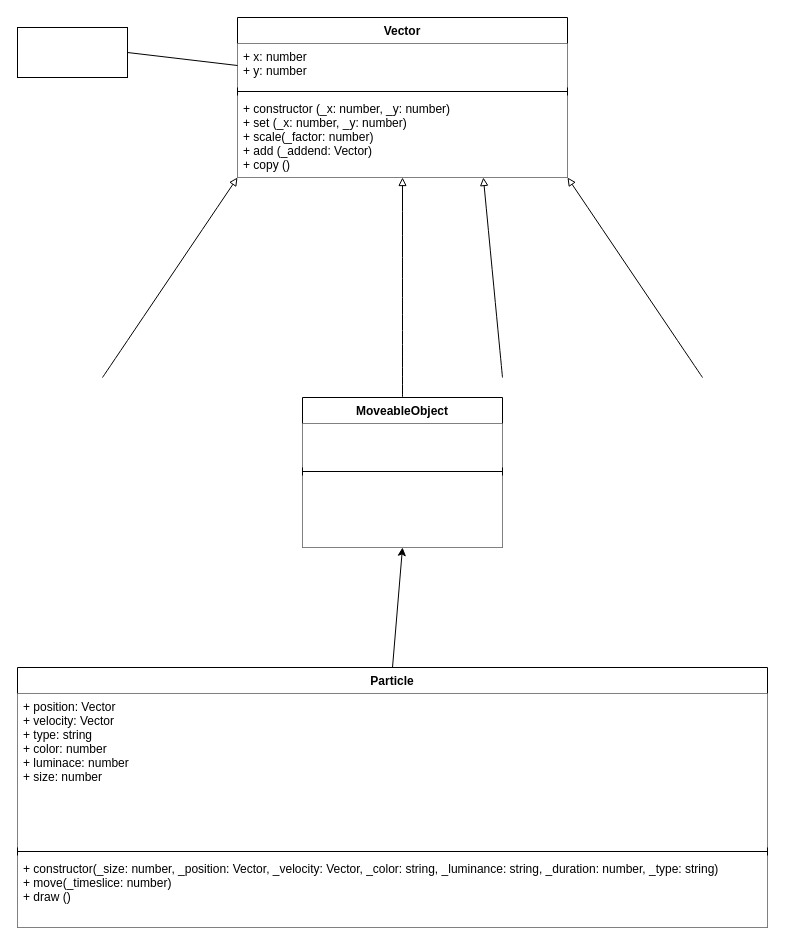
The diagram is 785 pixels wide and 948 high, and some of its shapes have lost their labels. The shapes that lost their labels are listed below. From the top down, each one's centre as x and y in pixels, then its label:
[72,52]: crc2
[402,445]: + position: Vector + velocity: Vector + expandable: number
[402,511]: + constructor(_position?: number) + move (_timeslice: number) + draw ()
